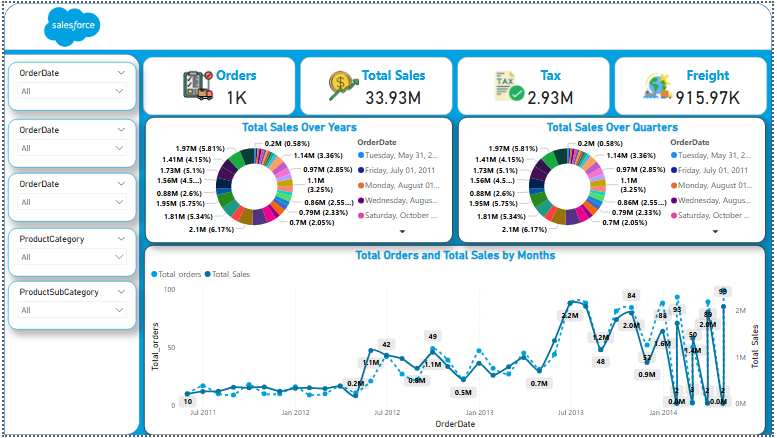

The page's visual inventory and layout, read from the dashboard file:
{"tool":"powerbi","page":{"name":"Time Analysis","canvas":[1280,720],"ordinal":2},"visuals":[{"type":"shape","box":[0,0,1280,719.8],"z":0},{"type":"cardVisual","fields":{"Data":["_Table_Measures.Total_orders","_Table_Measures.Total_Sales","_Table_Measures.Total_Tax","_Table_Measures.Total_Freight"]},"box":[226.6,84.6,1053.4,108],"z":1000},{"type":"shape","box":[0,0,1280,78.8],"z":2000},{"type":"shape","box":[0,85,226.2,635],"z":3000},{"type":"image","box":[22.5,0,181.2,78.8],"z":4000},{"type":"lineChart","title":"Total Orders and Total Sales by Months","fields":{"Category":["Fact Sales.OrderDate.Variation.Date Hierarchy.Month"],"Y":["_Table_Measures.Total_orders"],"Y2":["_Table_Measures.Total_Sales"]},"box":[233.4,402.7,1035.9,317.1],"z":5000},{"type":"donutChart","title":"Total Sales Over Years","fields":{"Category":["Fact Sales.OrderDate.Variation.Date Hierarchy.Year"],"Y":["_Table_Measures.Total_Sales"]},"box":[234.4,189.7,512.6,210.1],"z":6000},{"type":"slicer","fields":{"Values":["Fact Sales.OrderDate.Variation.Date Hierarchy.Year"]},"box":[5.8,98.2,214,80.7],"z":7000},{"type":"slicer","fields":{"Values":["Fact Sales.OrderDate.Variation.Date Hierarchy.Quarter"]},"box":[5.8,192.6,214,80.7],"z":8000},{"type":"slicer","fields":{"Values":["Fact Sales.OrderDate.Variation.Date Hierarchy.Month"]},"box":[5.8,284,214,80.7],"z":9000},{"type":"slicer","fields":{"Values":["Dim_product.ProductCategory"]},"box":[5.8,375.4,214,80.7],"z":10000},{"type":"slicer","fields":{"Values":["Dim_product.ProductSubCategory"]},"box":[5.8,464,214,80.7],"z":11000},{"type":"donutChart","title":"Total Sales Over Quarters","fields":{"Category":["Fact Sales.OrderDate.Variation.Date Hierarchy.Quarter"],"Y":["_Table_Measures.Total_Sales"]},"box":[756.7,189.7,512.6,210.1],"z":12000}]}

Visuals, with their boxes in screenshot pixels (x1, y1, x2, y2), scaled from the page's 1280x720 canvas onto the 777x438 screenshot:
shape: (0, 0, 776, 437)
cardVisual - _Table_Measures.Total_orders x _Table_Measures.Total_Sales: (138, 51, 776, 117)
shape: (0, 0, 776, 48)
shape: (0, 52, 137, 437)
image: (14, 0, 124, 48)
"Total Orders and Total Sales by Months" lineChart: (142, 245, 771, 437)
"Total Sales Over Years" donutChart: (142, 115, 453, 243)
slicer - Fact Sales.OrderDate.Variation.Date Hierarchy.Year: (4, 60, 133, 109)
slicer - Fact Sales.OrderDate.Variation.Date Hierarchy.Quarter: (4, 117, 133, 166)
slicer - Fact Sales.OrderDate.Variation.Date Hierarchy.Month: (4, 173, 133, 222)
slicer - Dim_product.ProductCategory: (4, 228, 133, 277)
slicer - Dim_product.ProductSubCategory: (4, 282, 133, 331)
"Total Sales Over Quarters" donutChart: (459, 115, 771, 243)
